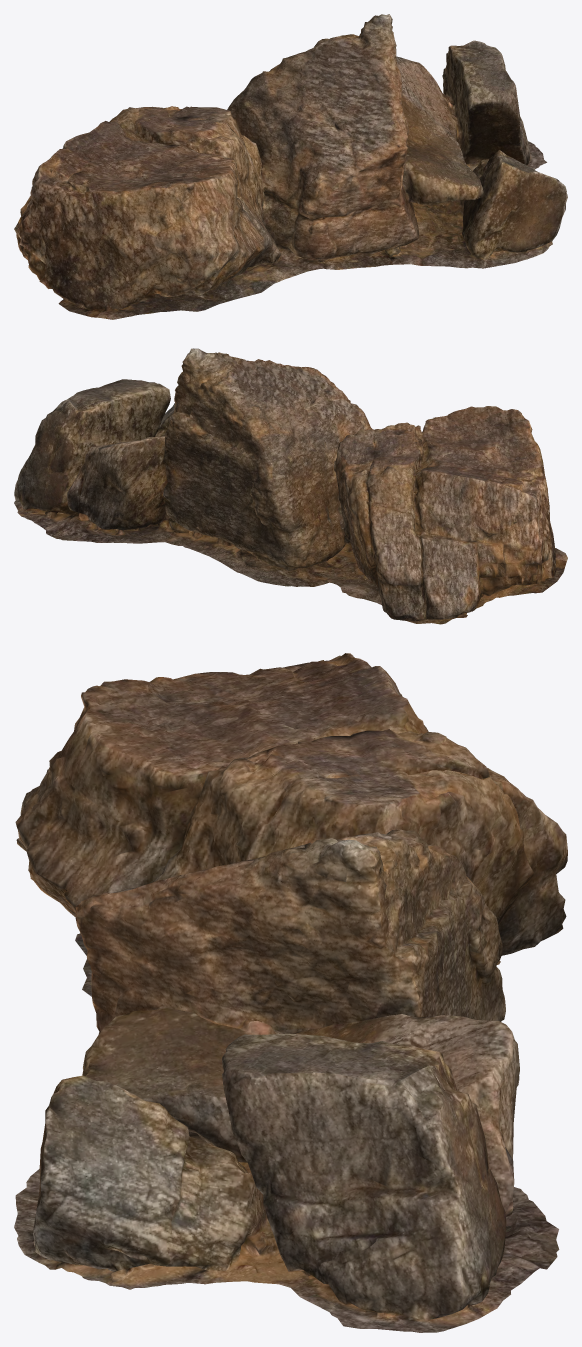
File: boulder.glb
3 views of the same model, one above another, from view 1: azimuth 30°, elevation 25°; view 2: azimuth 150°, elevation 25°; view 3: azimuth 270°, elevation 25° (orthographic). The views are drawn at different scales.
Visible parts, largest first — view 1: boulder_02; view 2: boulder_02; view 3: boulder_02.
Part boxes in pixels (box(x1,y1,x2,y2)): boulder_02: box(14, 14, 567, 319); boulder_02: box(14, 348, 567, 624); boulder_02: box(14, 653, 567, 1332).
Size of the model in its own units: 2.53 by 0.8826 by 1.23.
1 material, 1 textured.
